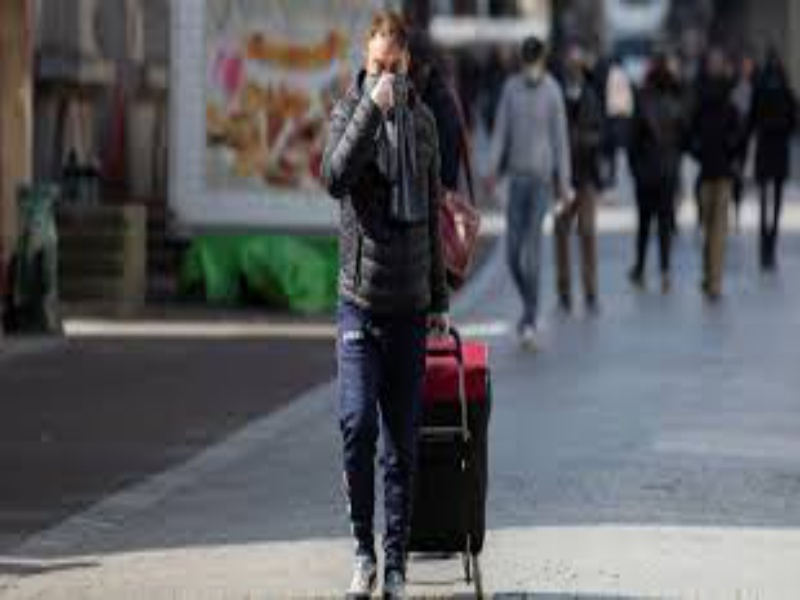ManaoArotava: (350, 10, 432, 127), (516, 32, 549, 91)
